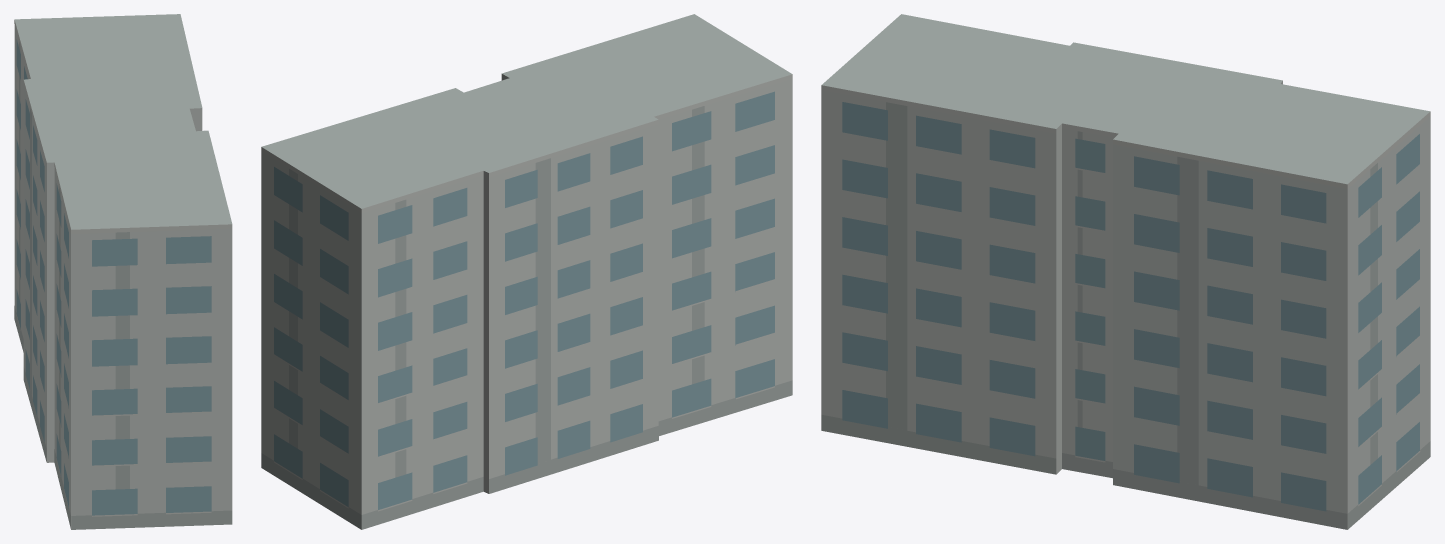
The model's file is survey-upis-32564285.glb.
3 renders of one model, left to right at view 1: azimuth 30°, elevation 25°; view 2: azimuth 150°, elevation 25°; view 3: azimuth 270°, elevation 25°, orthographic. The views are drawn at different scales.
Parts seen in each view (by area): view 1: survey-upis-32564285.tmp; view 2: survey-upis-32564285.tmp; view 3: survey-upis-32564285.tmp.
Boxes of the visible parts, x1=… form: survey-upis-32564285.tmp: x1=14, y1=14, x2=232, y2=529; survey-upis-32564285.tmp: x1=261, y1=14, x2=792, y2=529; survey-upis-32564285.tmp: x1=821, y1=14, x2=1430, y2=529.
Bounding box in the file's own units: 18.19 × 17.2 × 27.49.
